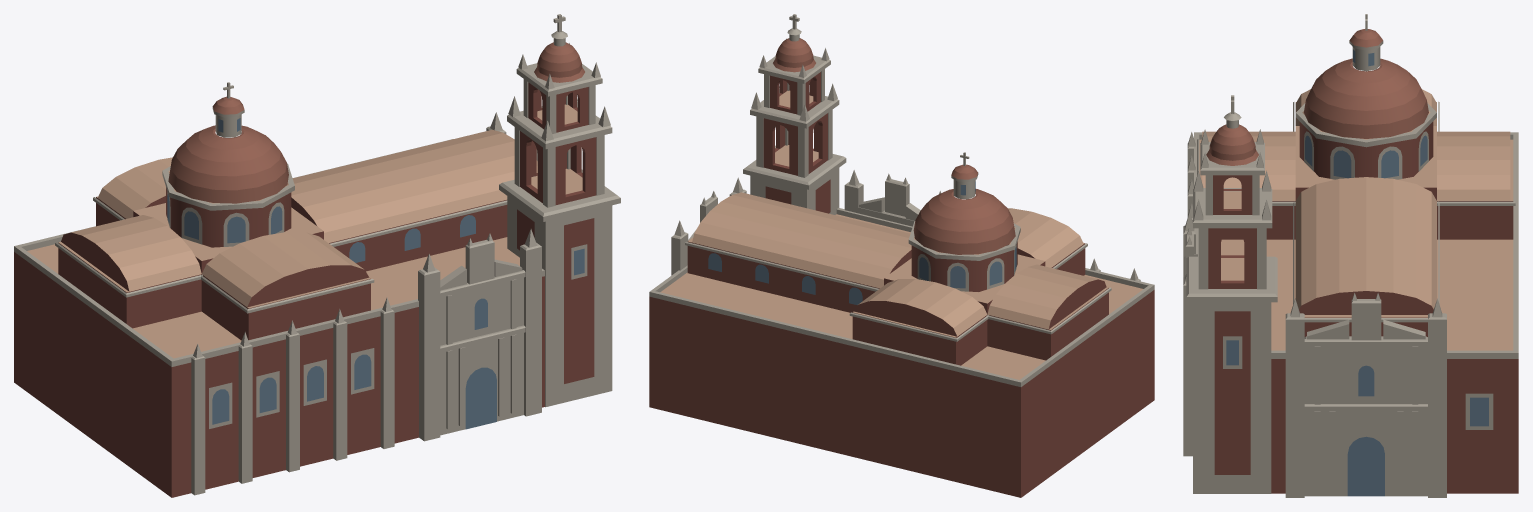
The model's file is mexico-city-la-profesa.glb.
The picture shows the model from 3 angles, left to right: view 1: azimuth 30°, elevation 25°; view 2: azimuth 150°, elevation 25°; view 3: azimuth 270°, elevation 25°; orthographic projection. The views are drawn at different scales.
Parts seen in each view (by area): view 1: Templo de La Profesa; view 2: Templo de La Profesa; view 3: Templo de La Profesa.
Boxes of the visible parts, x1,y1,x2,y2 form: Templo de La Profesa: (14,14,620,497); Templo de La Profesa: (649,14,1154,497); Templo de La Profesa: (1183,14,1518,497).
Bounding box in the file's own units: 50.2 × 39.6 × 31.6.
